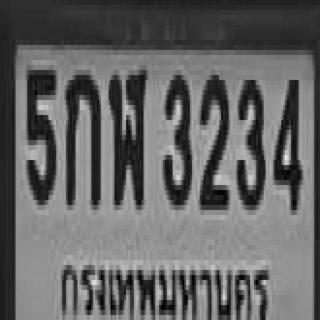A01: (64, 70, 99, 205)
A42: (108, 65, 144, 205)
N02: (198, 70, 227, 205)
N03: (161, 70, 190, 205), (235, 75, 264, 205)
N04: (272, 72, 300, 208)
N05: (25, 65, 54, 200)
P04: (56, 250, 272, 320)
